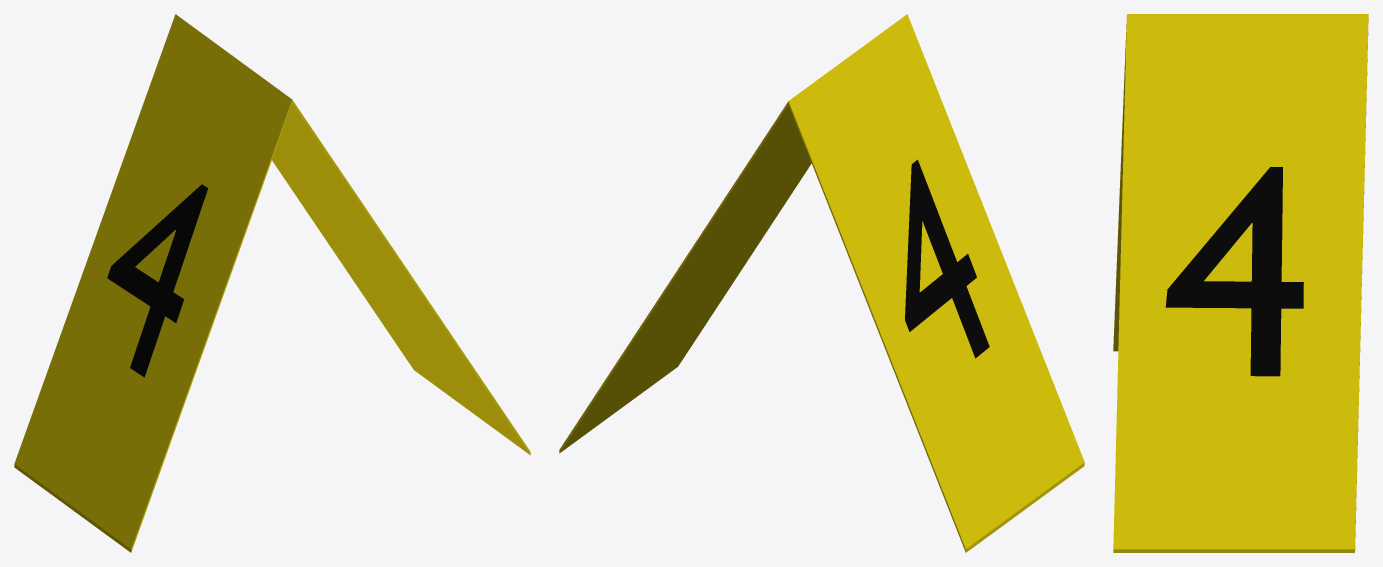
File: stobok_evidence.fbx
The picture shows the model from 3 angles, left to right: view 1: azimuth 30°, elevation 25°; view 2: azimuth 150°, elevation 25°; view 3: azimuth 270°, elevation 25°; orthographic projection. The views are drawn at different scales.
Visible parts, largest first — view 1: Cube, Text.002; view 2: Cube, Text.002; view 3: Cube, Text.001.
Part boxes in pixels (x1=…): Cube: x1=14, y1=14, x2=530, y2=552; Text.002: x1=107, y1=184, x2=207, y2=377; Cube: x1=559, y1=14, x2=1084, y2=552; Text.002: x1=905, y1=159, x2=989, y2=358; Cube: x1=1113, y1=14, x2=1368, y2=552; Text.001: x1=1165, y1=167, x2=1303, y2=376.
Size of the model in its own units: 395 by 385 by 211.
